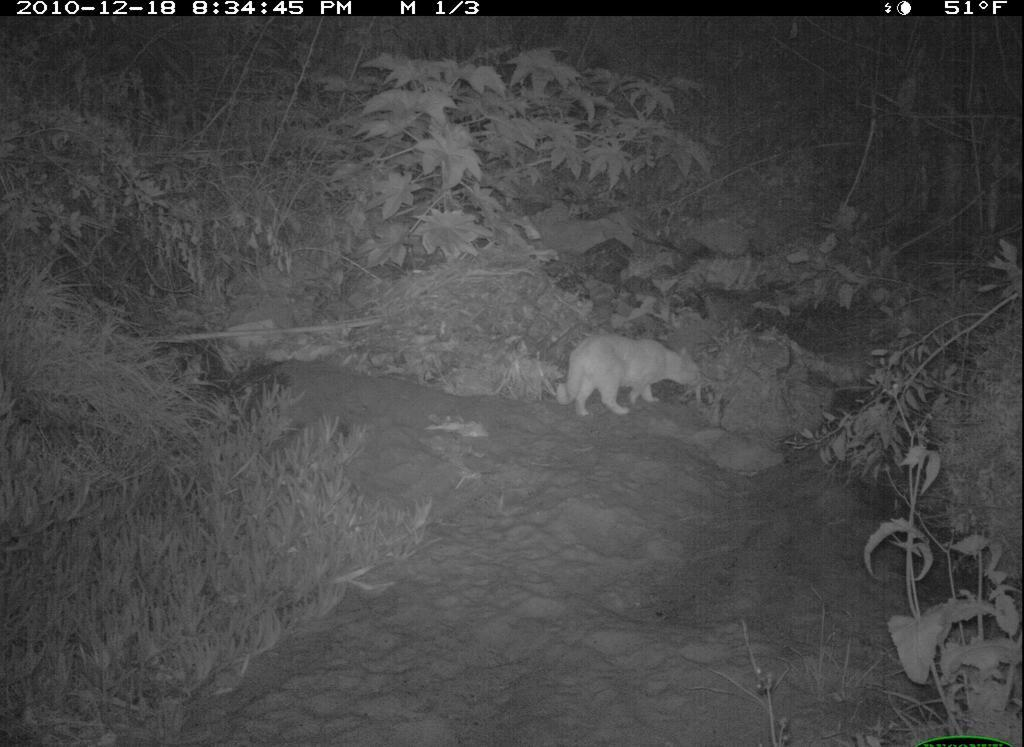cat: (561, 315, 707, 415)
